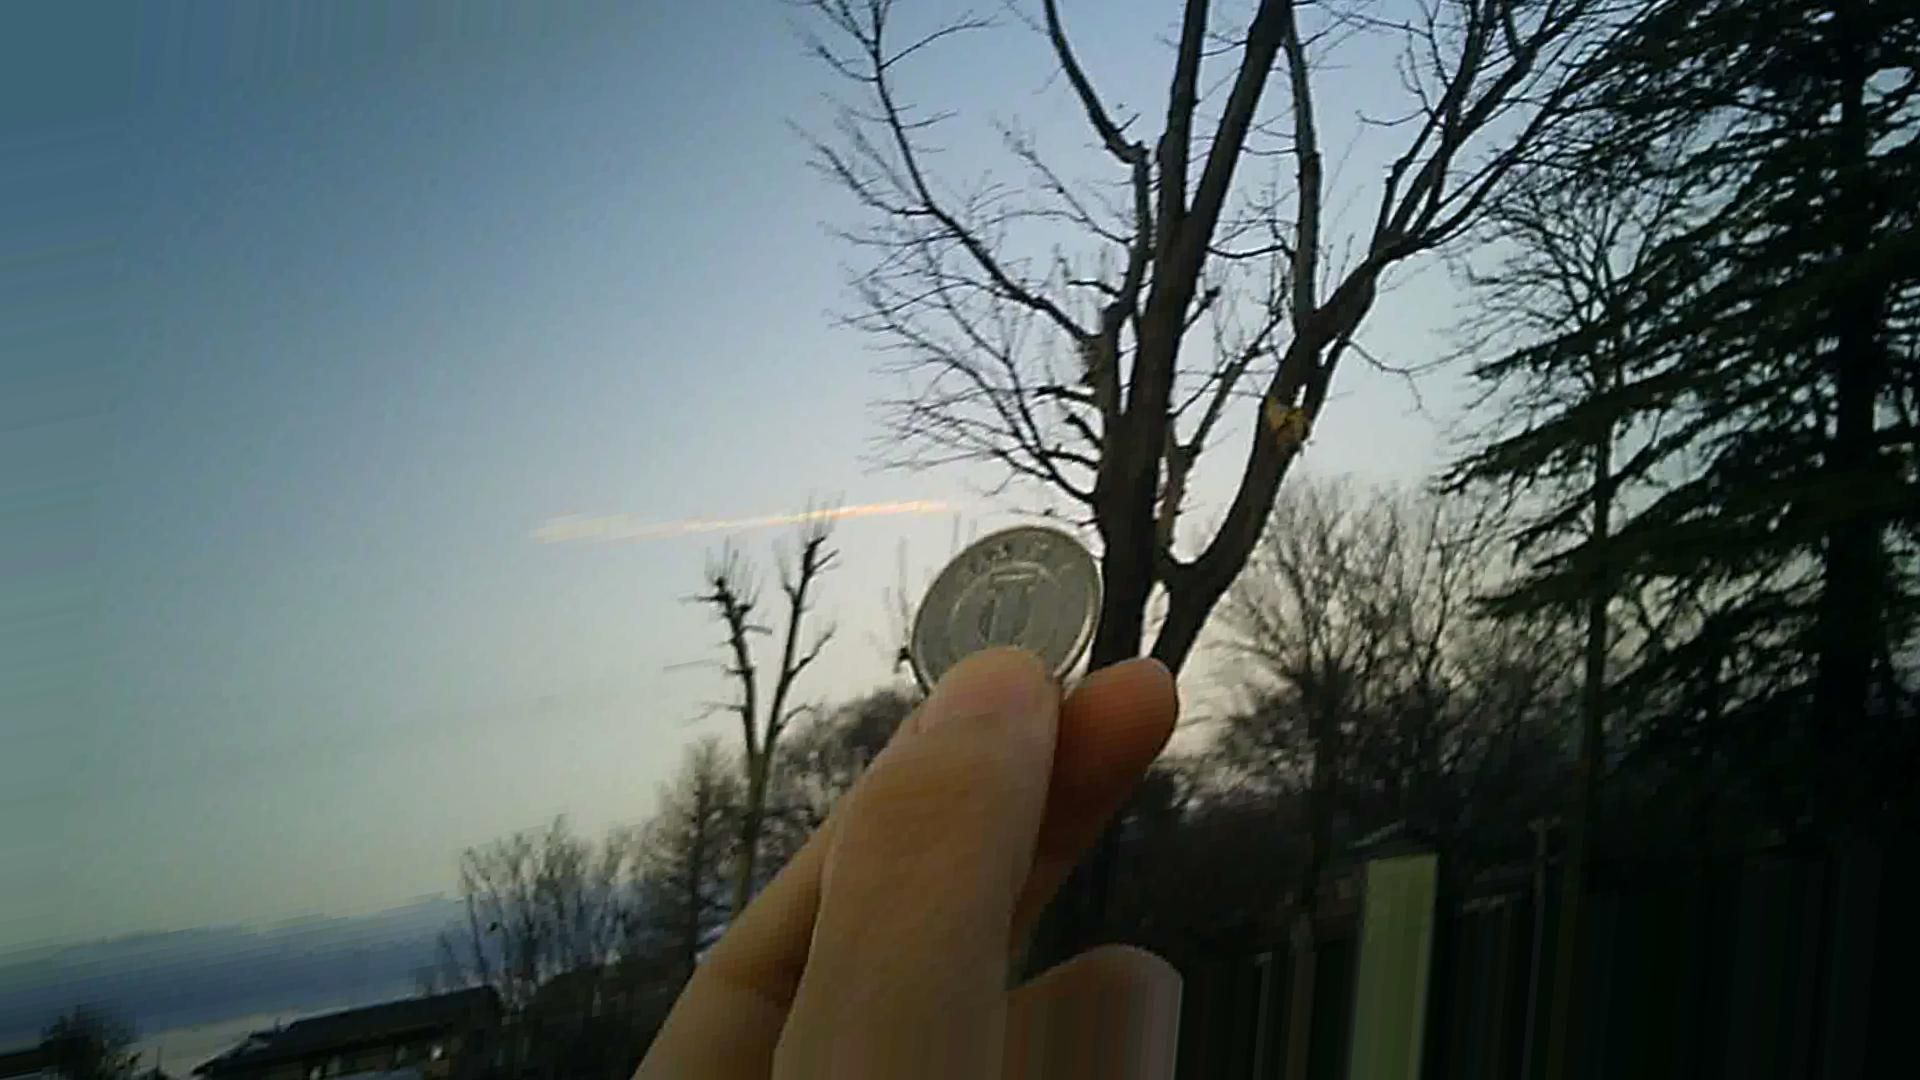1 Yen: (910, 518, 1088, 699)
